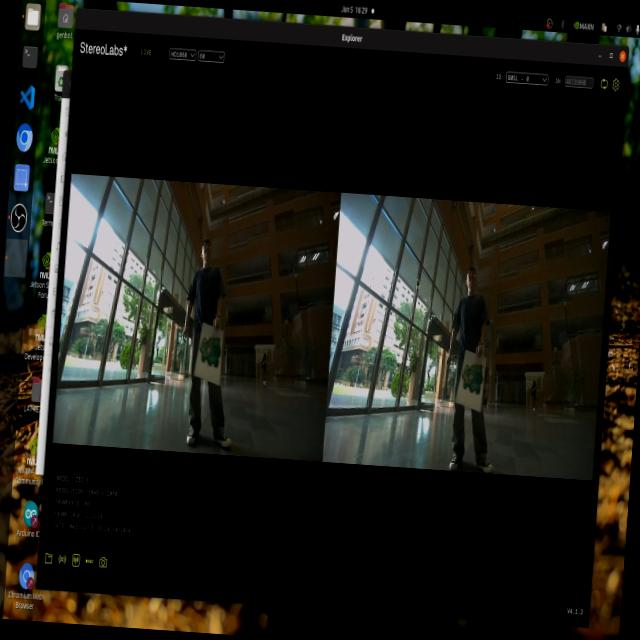green: (456, 349, 494, 408), (194, 326, 227, 372)
